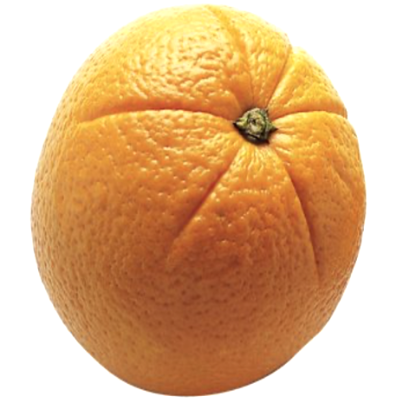orange: (19, 1, 397, 402)
